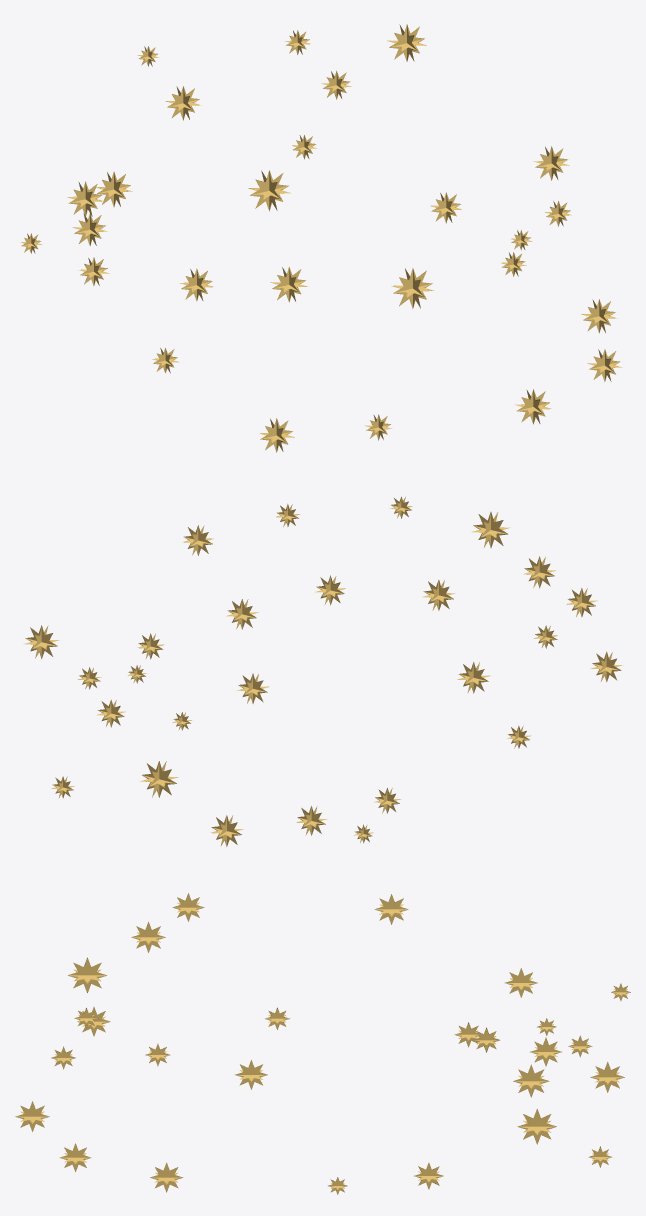
The model's file is Star.fbx.
3 views of the same model, one above another, from view 1: azimuth 30°, elevation 25°; view 2: azimuth 150°, elevation 25°; view 3: azimuth 270°, elevation 25° (orthographic). The views are drawn at different scales.
Visible parts, largest first — view 1: Star; view 2: Star; view 3: Star.
Part boxes in pixels (box(x1,y1,x2,y2)): Star: box(21, 24, 622, 452); Star: box(24, 496, 622, 846); Star: box(15, 893, 630, 1194).
Size of the model in its own units: 45.01 by 15.74 by 62.06.
1 material, 1 textured.
